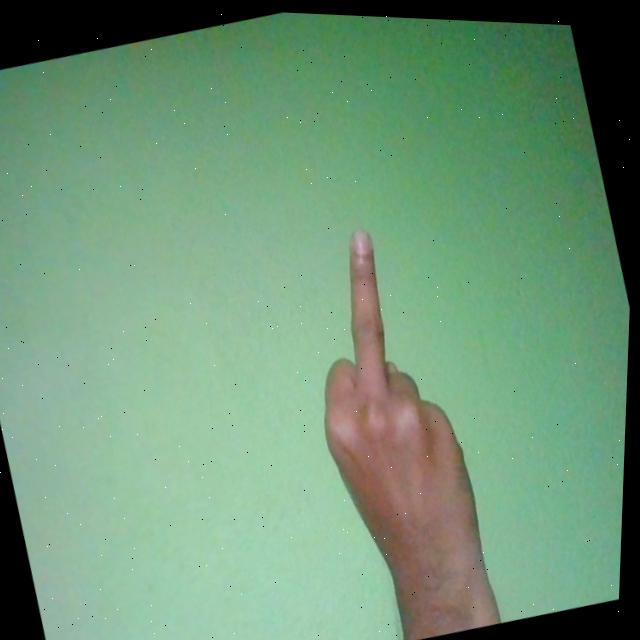Middle Finger: (274, 206, 512, 630)
